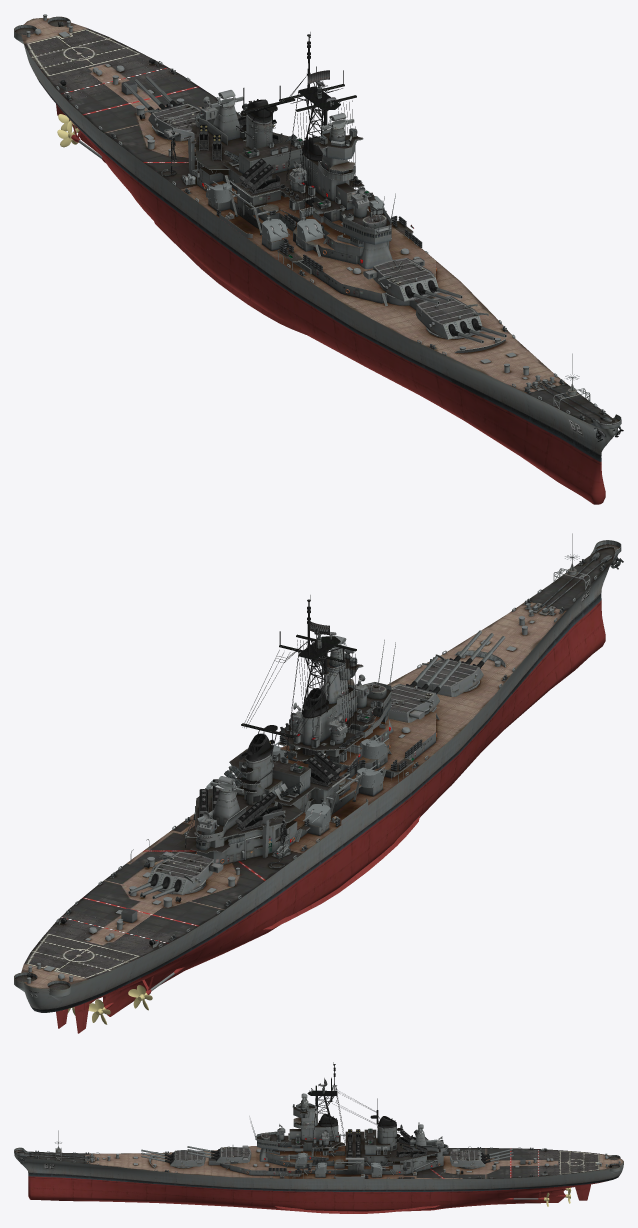
The picture shows the model from 3 angles, top to bottom: view 1: azimuth 30°, elevation 25°; view 2: azimuth 150°, elevation 25°; view 3: azimuth 270°, elevation 25°; orthographic projection. The views are drawn at different scales.
Visible parts, largest first — view 1: Object_15, Object_16, Object_13, Object_12, Object_3, Object_14, Object_10, Object_17; view 2: Object_15, Object_16, Object_13, Object_12, Object_3, Object_14, Object_17, Object_10; view 3: Object_15, Object_16, Object_13, Object_12, Object_14, Object_3, Object_9.
Part boxes in pixels (box(x1,y1,x2,y2)): Object_15: box(14, 14, 621, 504); Object_16: box(14, 16, 619, 423); Object_13: box(56, 21, 623, 441); Object_12: box(144, 102, 488, 339); Object_3: box(199, 116, 282, 194); Object_14: box(56, 76, 506, 343); Object_10: box(262, 216, 324, 241); Object_17: box(199, 96, 369, 208); Object_15: box(14, 533, 621, 1016); Object_16: box(14, 544, 619, 990); Object_13: box(27, 552, 623, 977); Object_12: box(147, 654, 483, 895); Object_3: box(199, 740, 341, 831); Object_14: box(56, 630, 505, 1033); Object_17: box(199, 674, 369, 833); Object_10: box(357, 736, 389, 787); Object_15: box(14, 1062, 623, 1213); Object_16: box(14, 1085, 623, 1178); Object_13: box(18, 1086, 612, 1178); Object_12: box(170, 1145, 485, 1168); Object_14: box(141, 1146, 590, 1200); Object_3: box(347, 1129, 428, 1157); Object_9: box(289, 1152, 326, 1173).
Size of the model in its own units: 22.12 by 44.85 by 181.
Materials: 11 (9 with a texture image).
